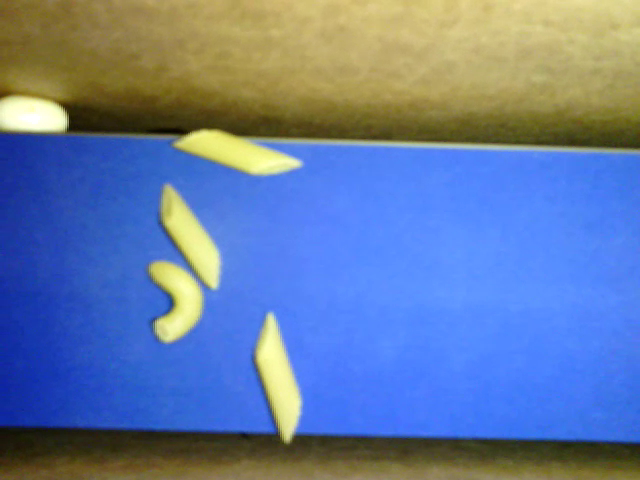elbow: (148, 259, 204, 344)
penne: (171, 124, 304, 176), (161, 183, 223, 289), (253, 310, 301, 445)
